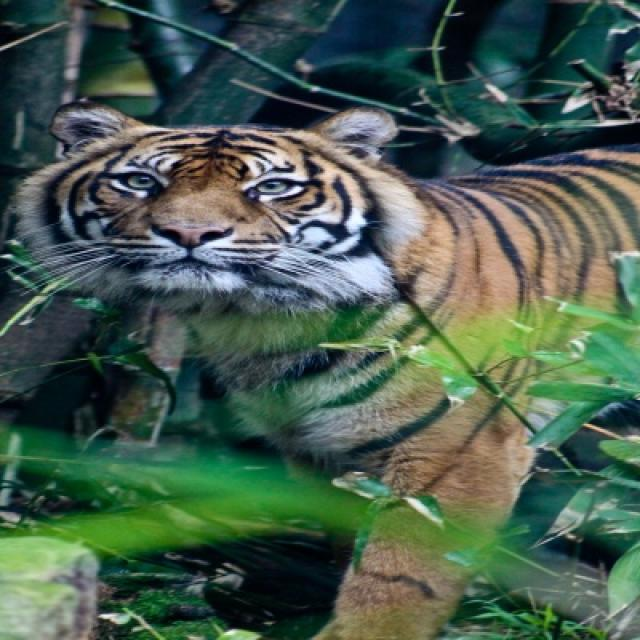Tiger: (18, 103, 638, 638)
